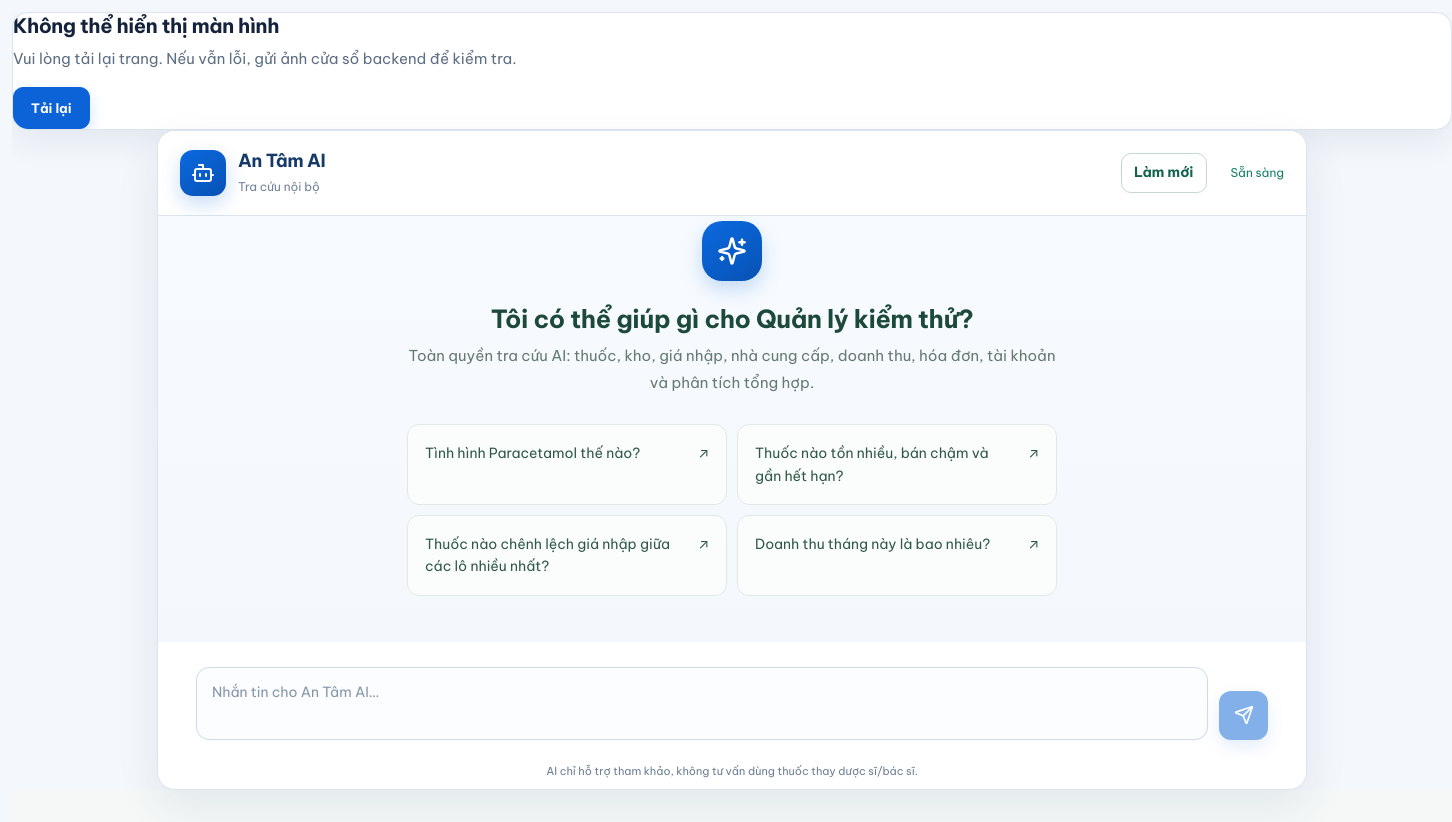
Test: AI chatbot shows provider error and stays usable
The width and height of the screenshot is (1452, 822).
(page scrolled)
Type "Kiểm kê như thế nào?" into the text box with placeholder "Nhắn tin cho An Tâm AI…".
click(702, 703); type("Kiểm kê như thế nào?")  # box [196,666,1208,740]
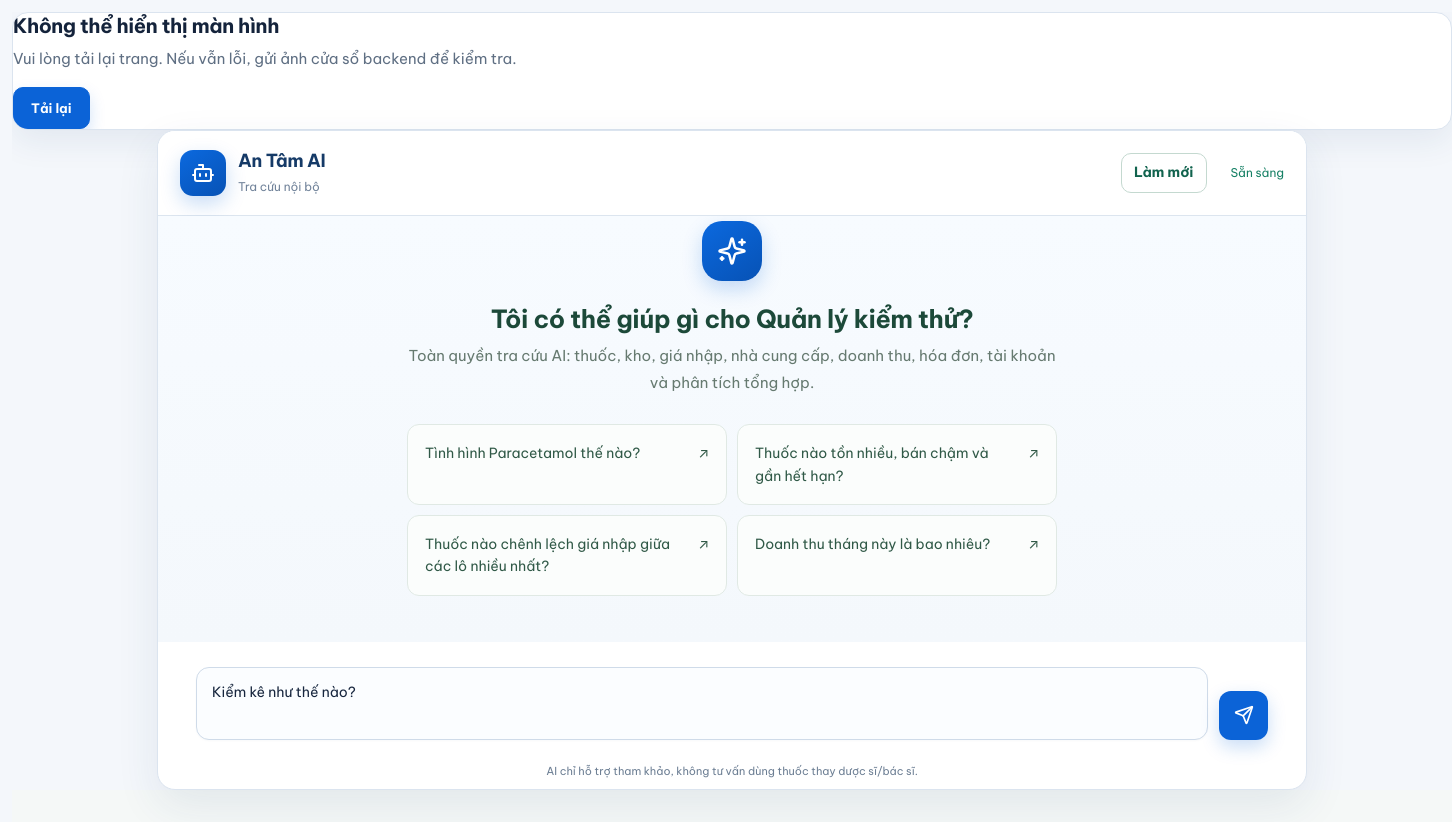
Click the button named "Gửi".
click(1244, 715)  # box [1219,691,1268,740]
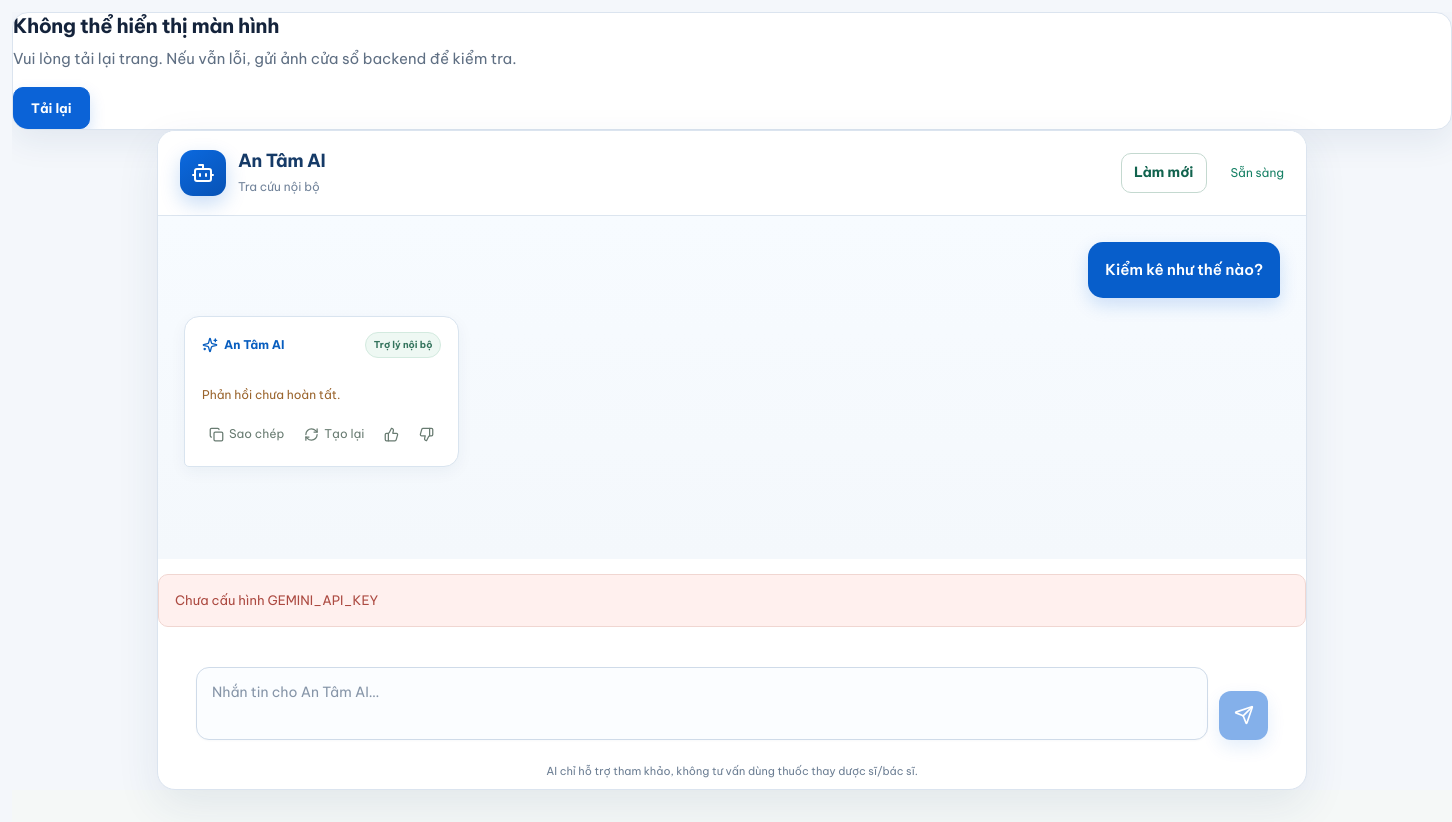
Now the text "Chưa cấu hình GEMINI_API_KEY" is shown, box [158,574,1306,626]
Now the button named "Gửi" is disabled, box [1219,691,1268,740]
